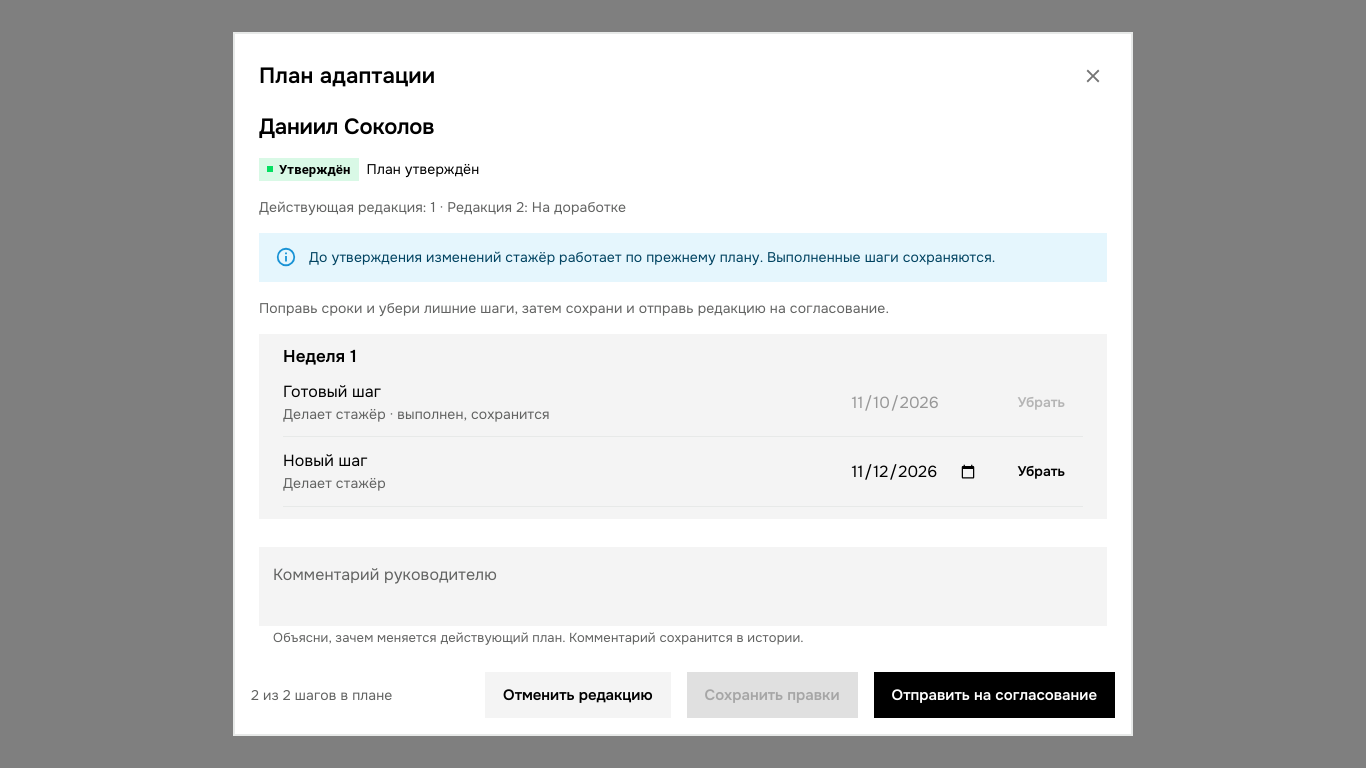
Test: Полный цикл плана (SCR-L2) › при конфликте перечитывает план и не отправляет устаревшие правки повторно
Type "Мои правки" into the text box labelled "Комментарий руководителю".
click(683, 586); type("Мои правки")  # box [273,563,1093,609]
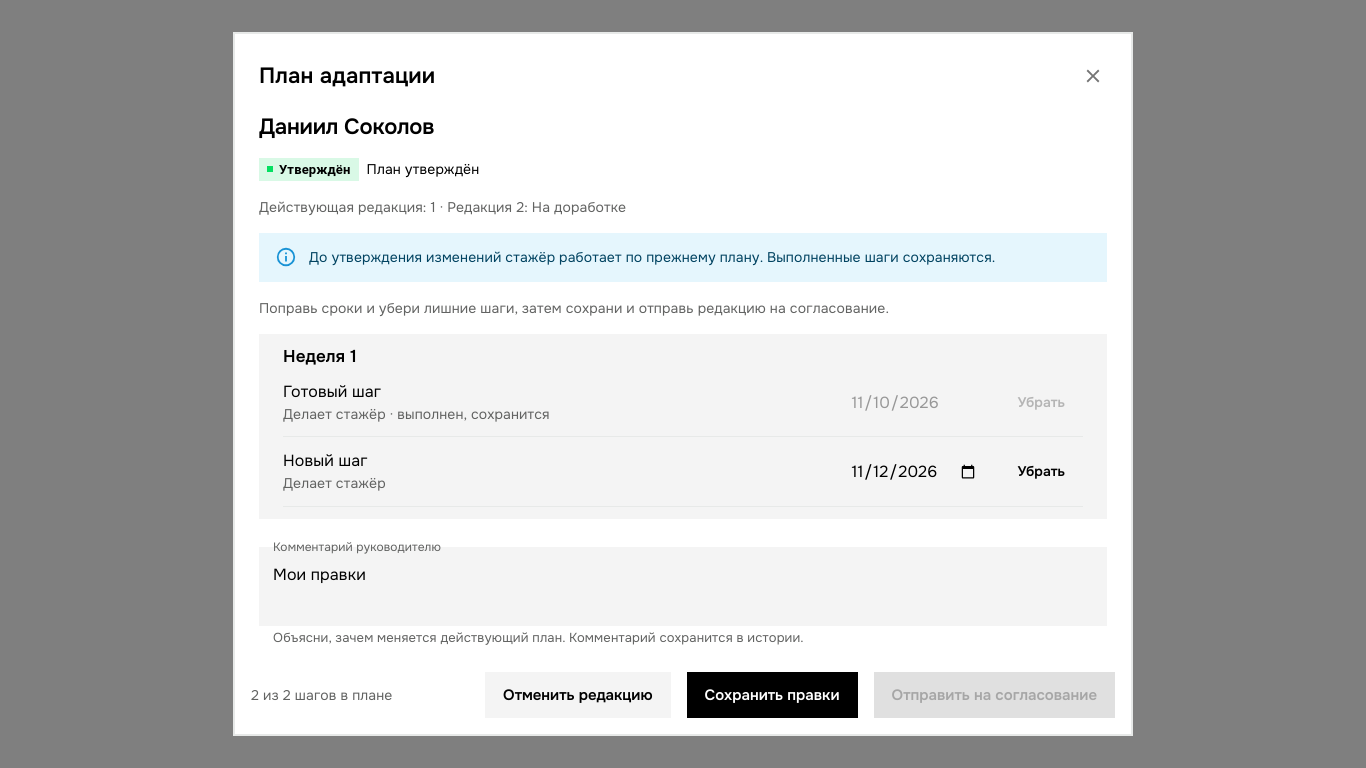
Click the button "Сохранить правки".
click(772, 695)  # box [687,672,858,718]
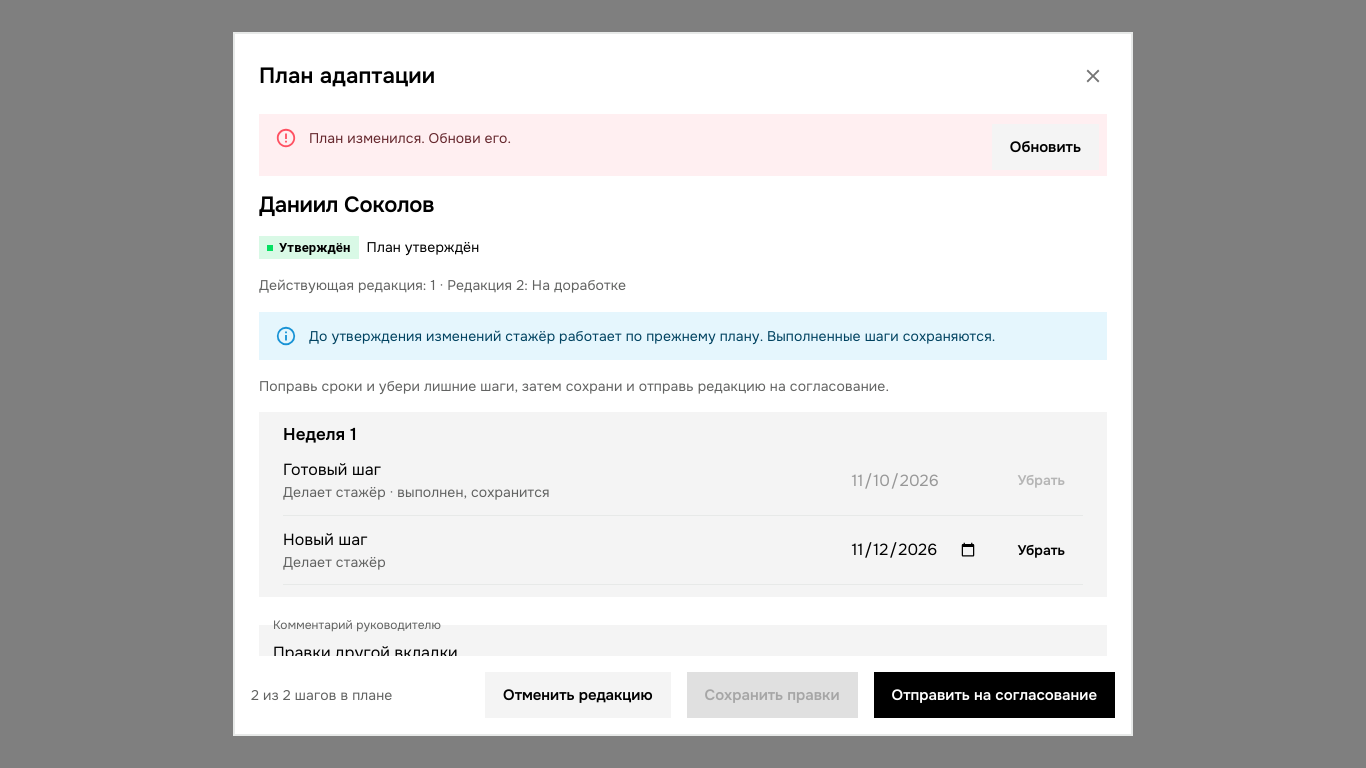
Expected: the text "План изменился. Обнови его." is shown, [309,129,511,147]
Expected: the button "Сохранить правки" is disabled, [687,672,858,718]
